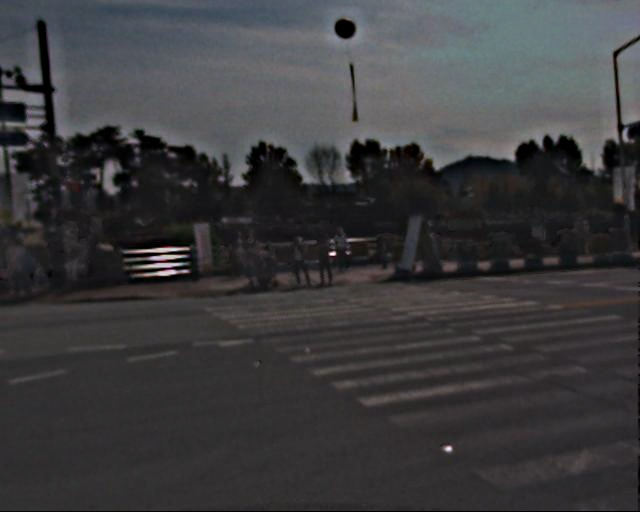person: (13, 231, 50, 294), (46, 230, 81, 293), (242, 226, 268, 290), (317, 233, 340, 289), (290, 232, 312, 286), (336, 223, 356, 271), (230, 230, 249, 276)
